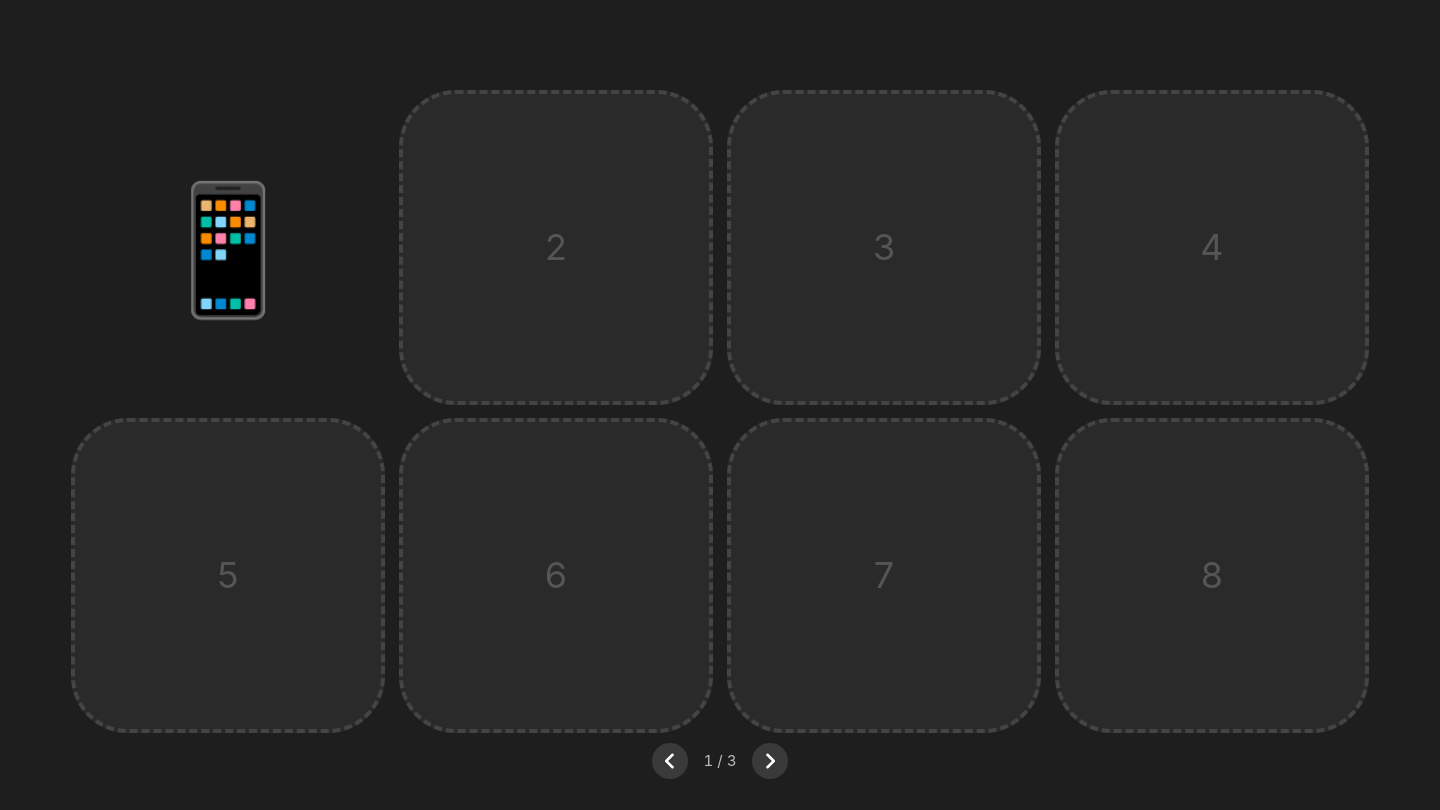
Test: App rename › closes the context menu with Escape or a click elsewhere, without opening the dialog
expect the text "1 / 3" is shown: met, box [704,751,736,770]
Right-click the button named "Foo" at (228, 247), box [149,171,307,323]
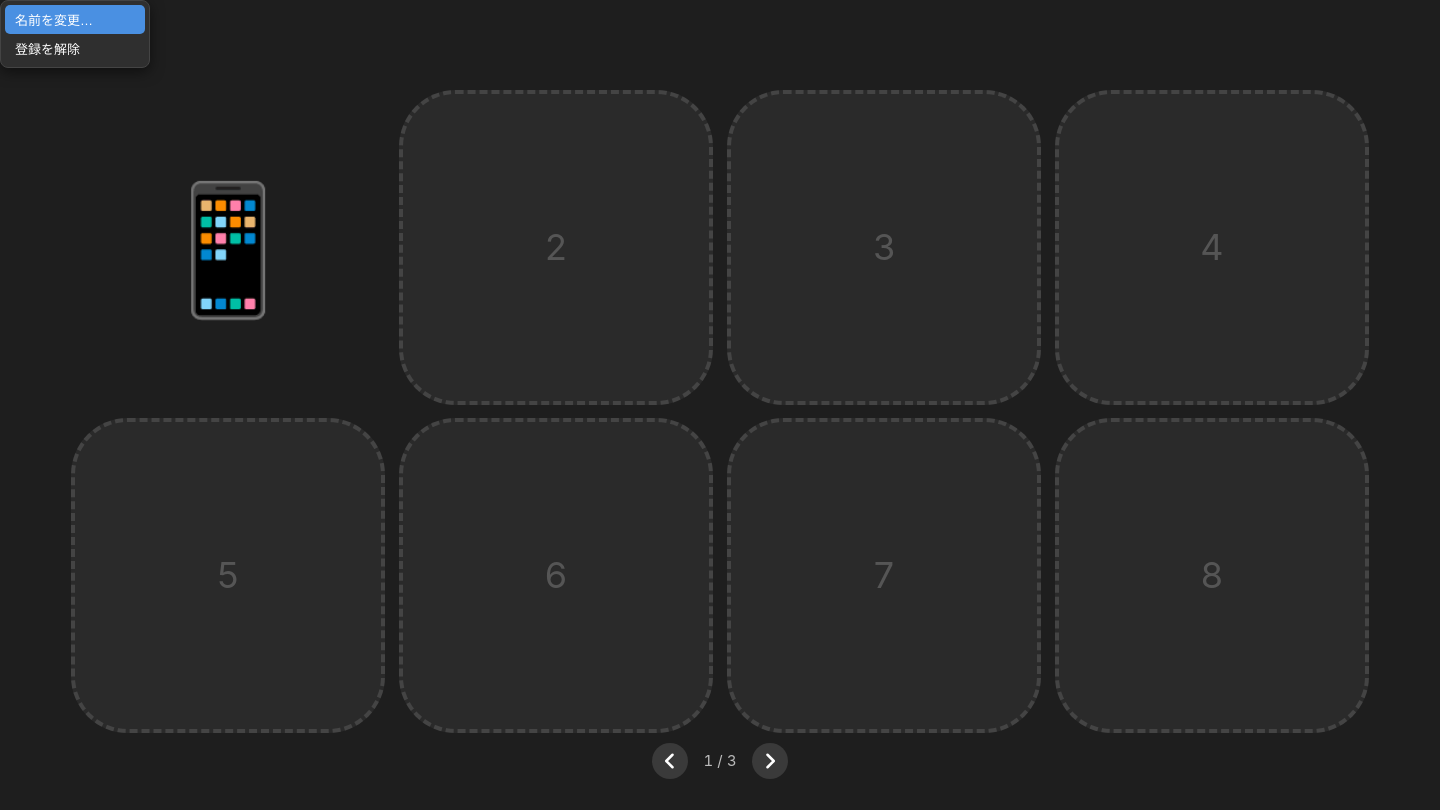
Press Escape
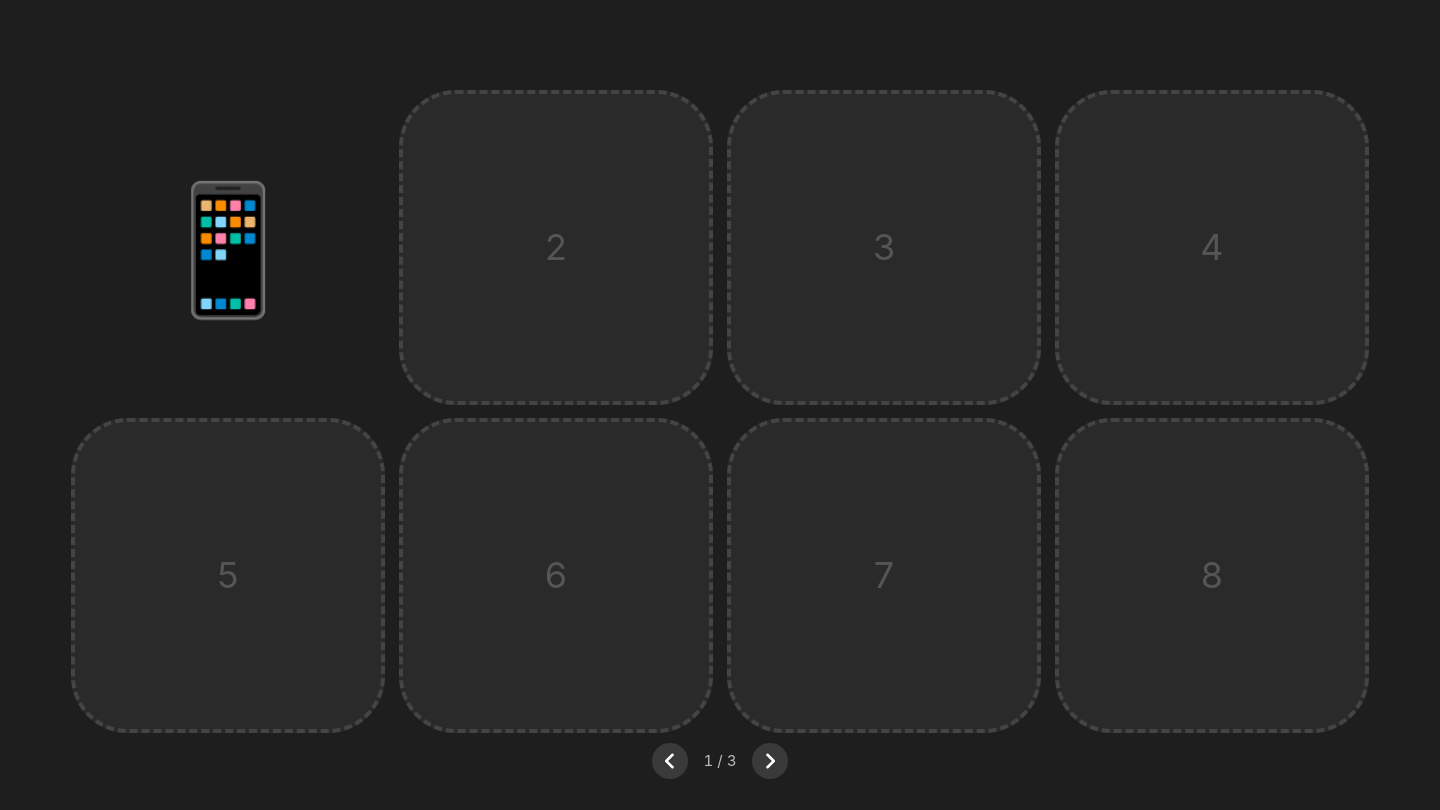
expect the menu is gone: met
Right-click the button named "Foo" at (228, 247), box [149,171,307,323]
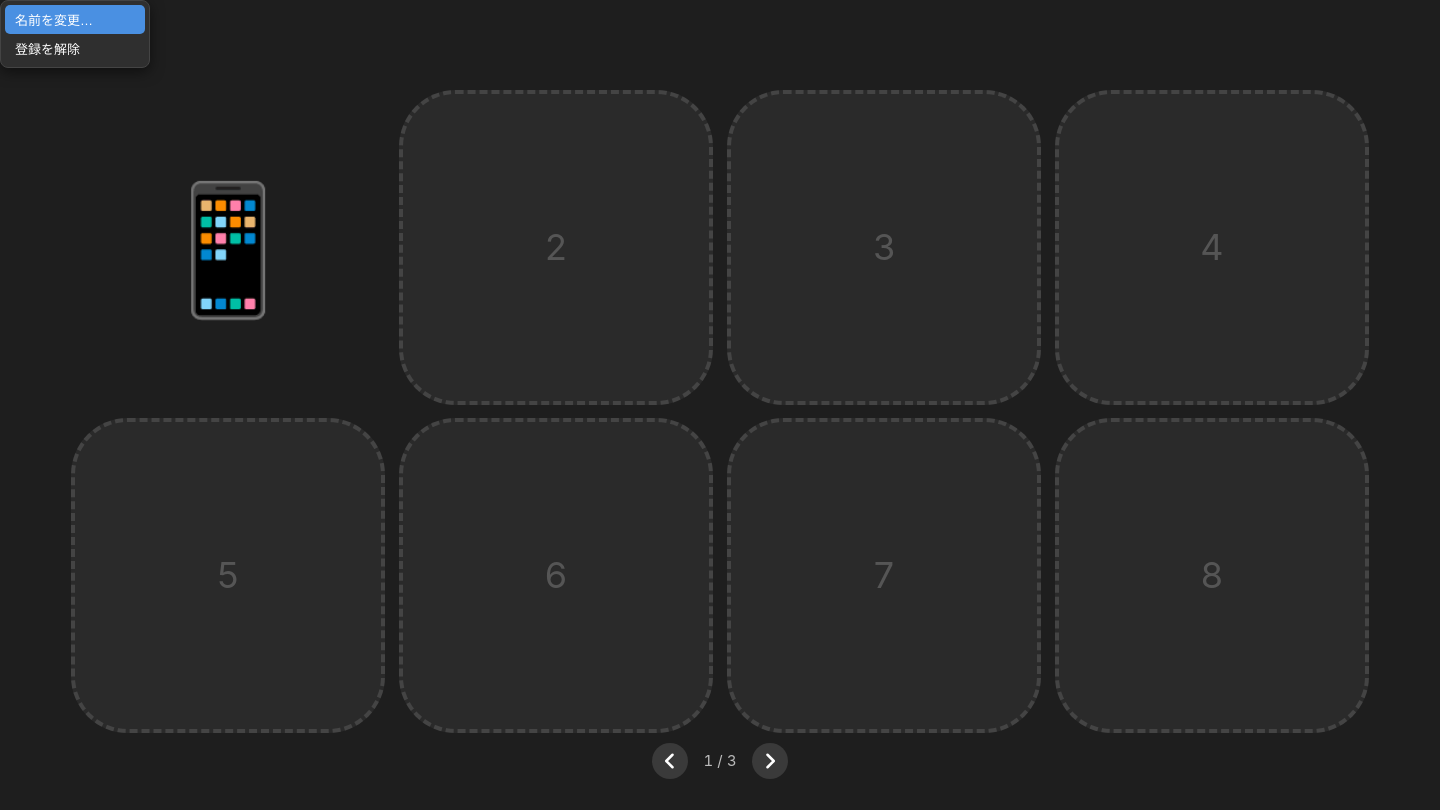
Click the element with class "context-menu-layer" at (75, 34), box [0,0,150,68]
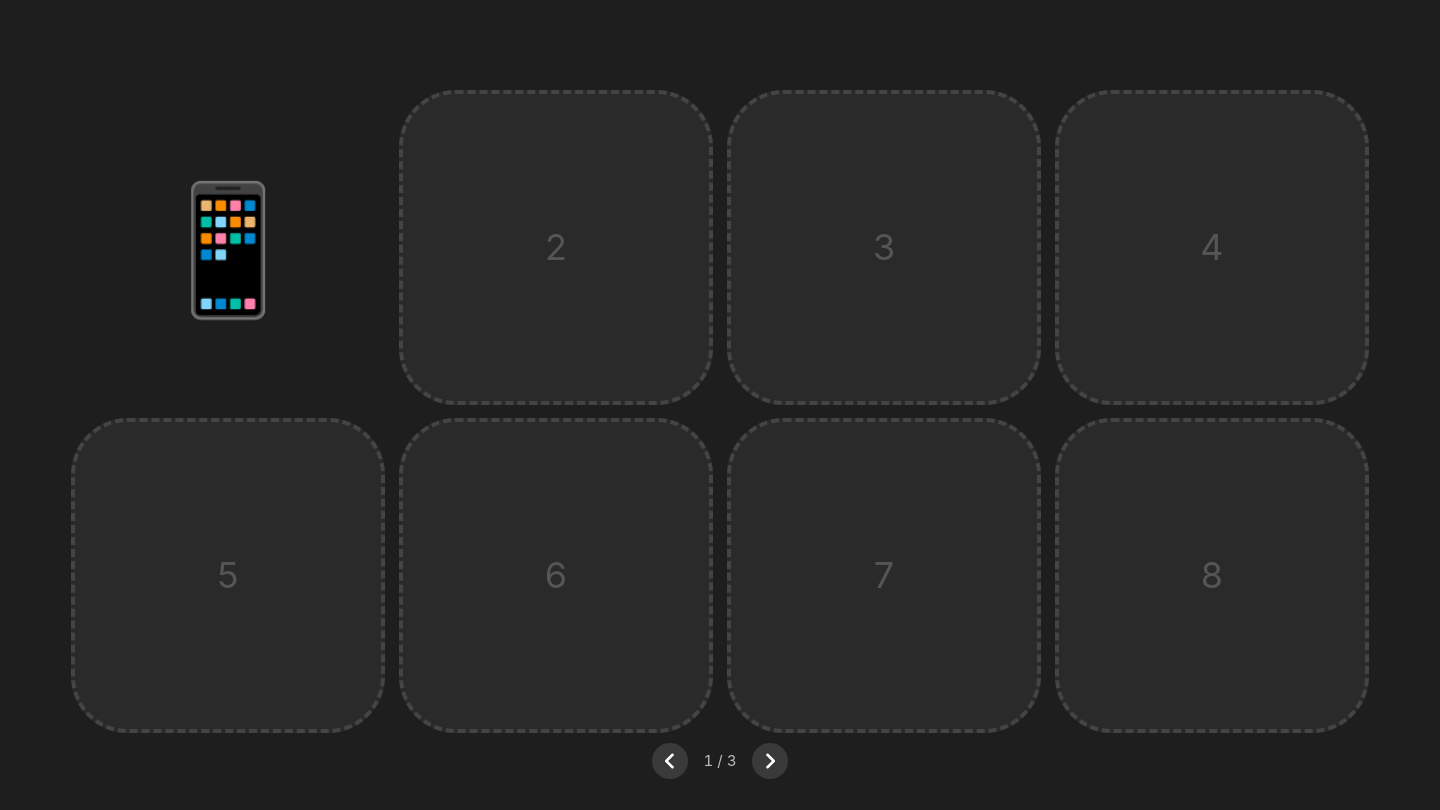
expect the menu is gone: met
Right-click the button named "Foo" at (228, 247), box [149,171,307,323]
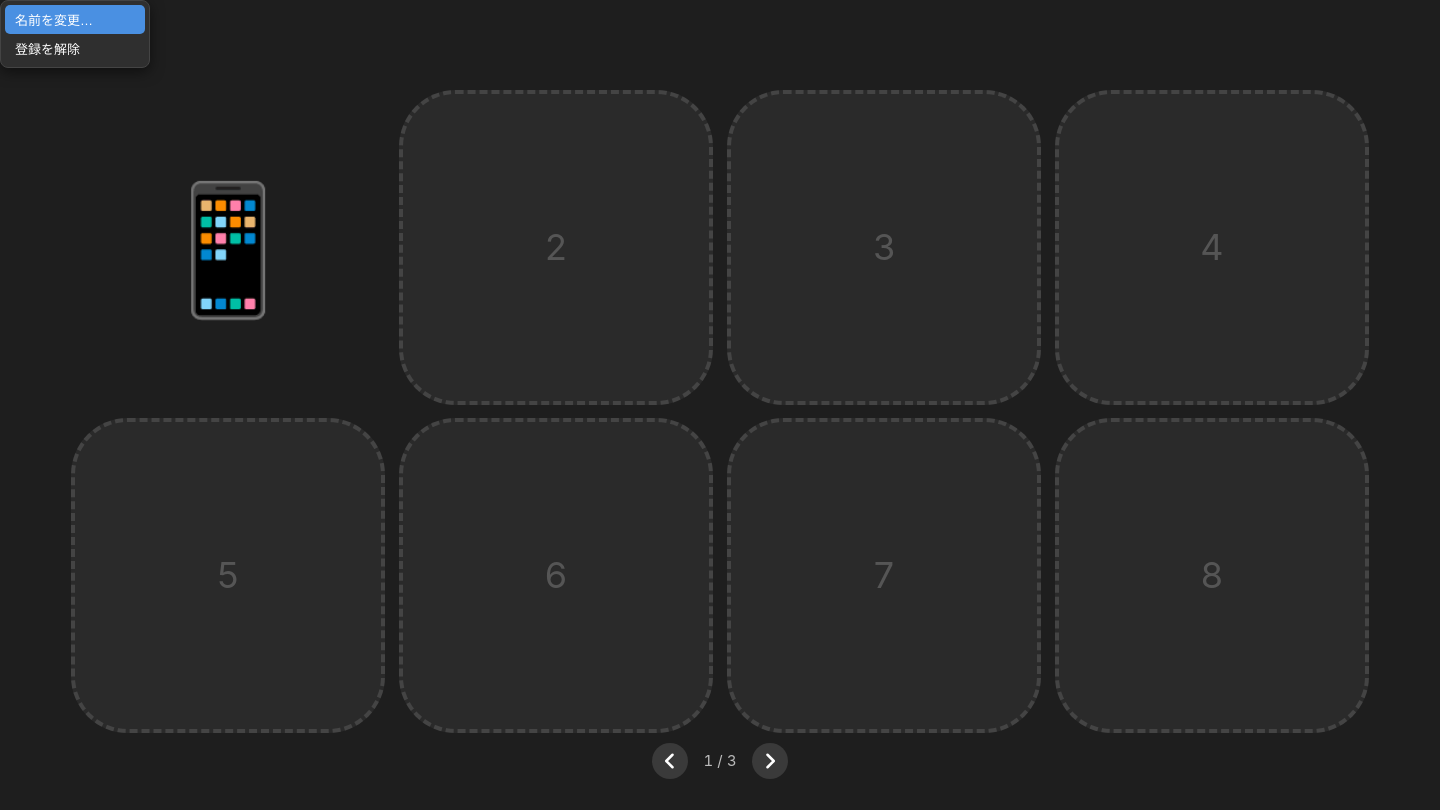
Right-click the element with class "context-menu-layer" at (75, 34), box [0,0,150,68]
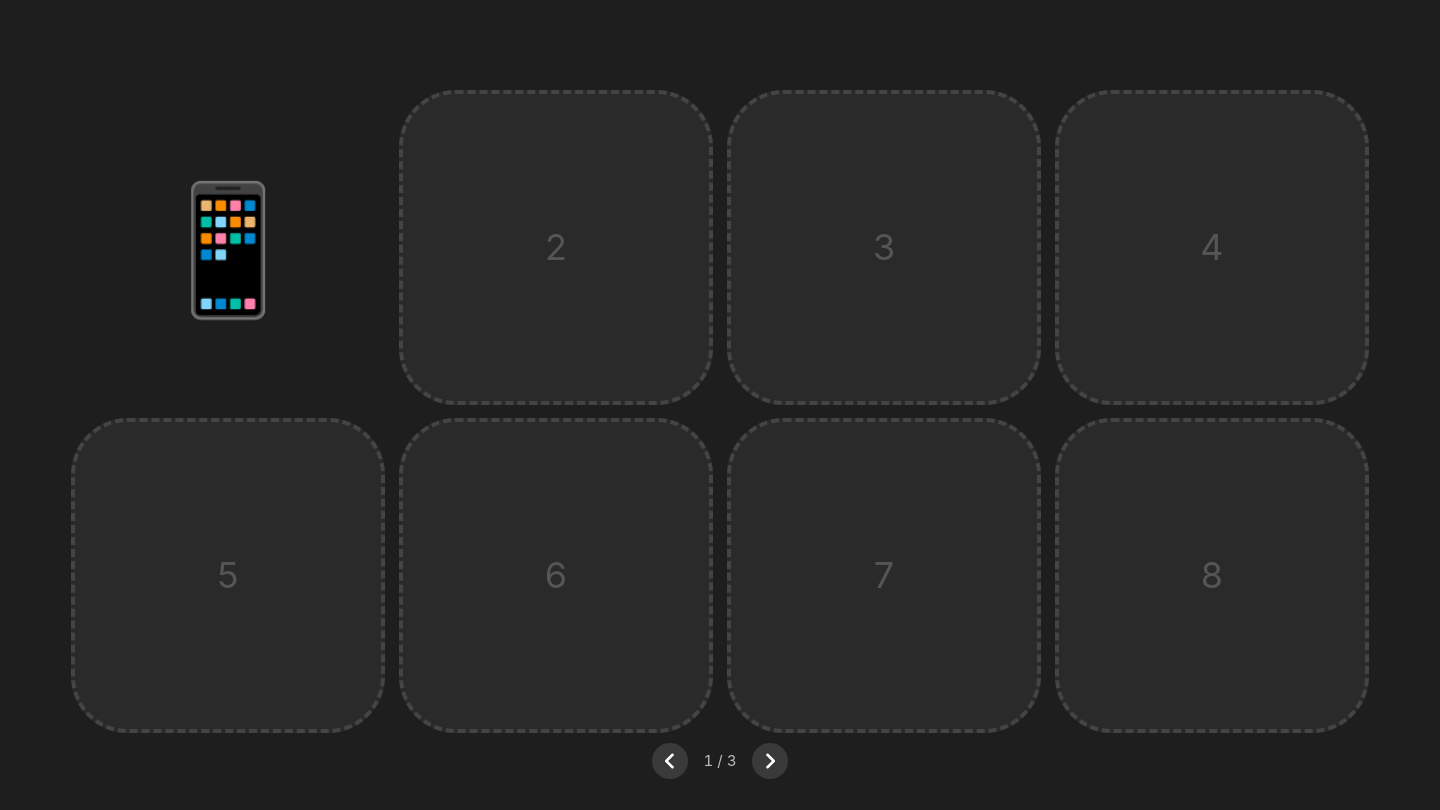
expect the menu is gone: met
